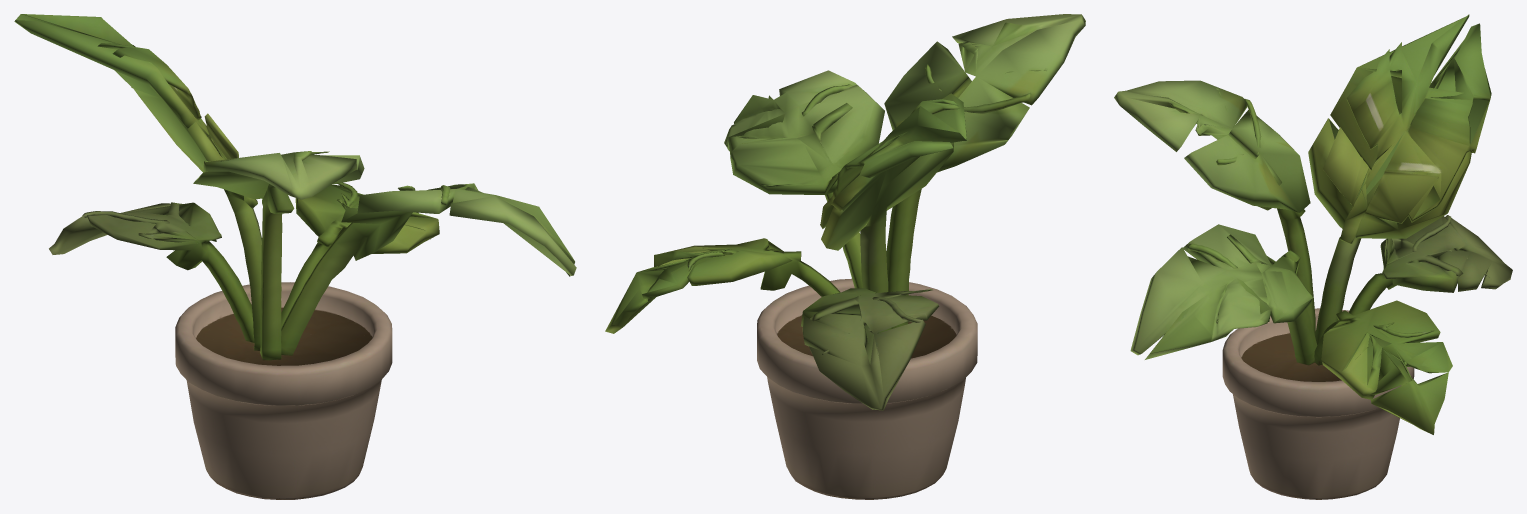
File: lobby-plant.glb
The picture shows the model from 3 angles, left to right: view 1: azimuth 30°, elevation 25°; view 2: azimuth 150°, elevation 25°; view 3: azimuth 270°, elevation 25°; orthographic projection. The views are drawn at different scales.
Parts seen in each view (by area): view 1: tripo_node_kodyurd-model-73____________________; view 2: tripo_node_kodyurd-model-73____________________; view 3: tripo_node_kodyurd-model-73____________________.
Part boxes in pixels (x1,y1,x2,y2): tripo_node_kodyurd-model-73____________________: (14,14,576,499); tripo_node_kodyurd-model-73____________________: (605,14,1085,499); tripo_node_kodyurd-model-73____________________: (1114,14,1512,499).
Size of the model in its own units: 0.9121 by 0.998 by 0.9473.
Materials: 1 (1 with a texture image).
